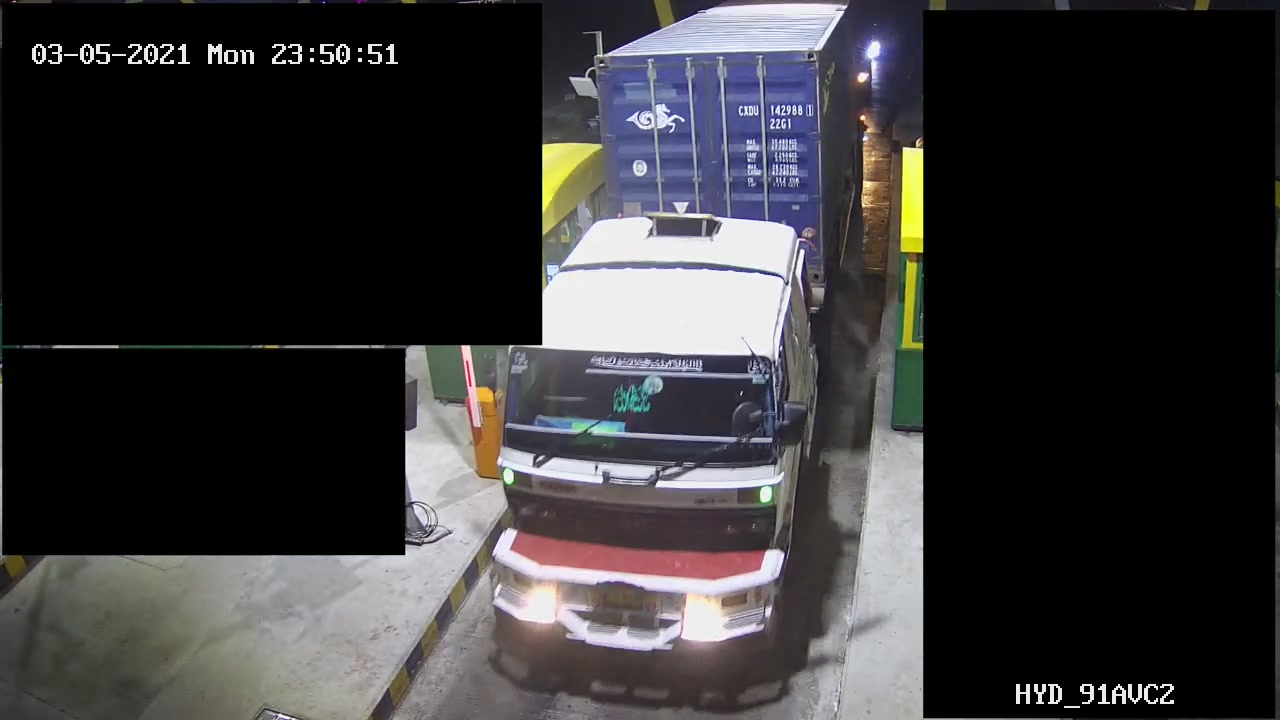F6: (483, 1, 872, 669)
